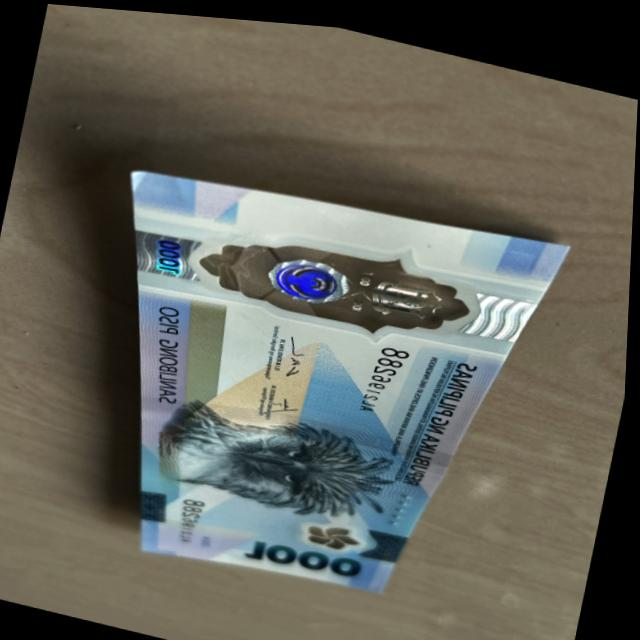clear_window: (173, 202, 490, 357)
eagle: (159, 387, 410, 527)
sampaguita: (304, 509, 368, 548)
